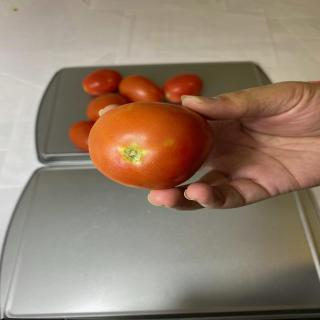Apple: (88, 101, 215, 190)
Tomato: (118, 74, 163, 102), (162, 73, 203, 103), (86, 93, 128, 121), (82, 68, 121, 95), (69, 120, 95, 152)
